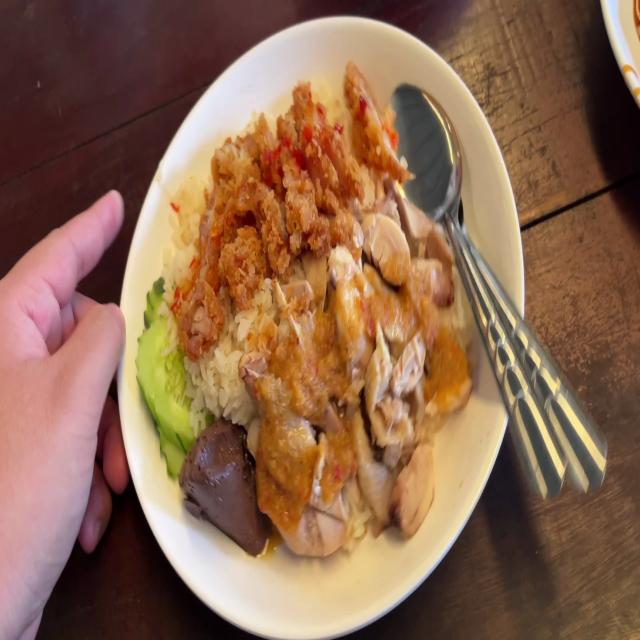boiled_chicken: (269, 214, 459, 518)
boiled_chicken_blood_jelly: (184, 415, 266, 553)
chicken_rice: (138, 64, 472, 552)
cucumber: (135, 278, 191, 471)
fried_chicken: (178, 71, 404, 333)
